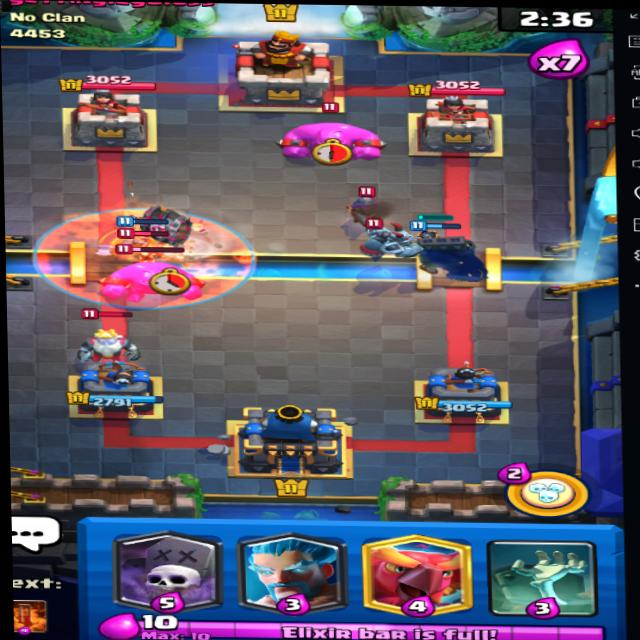Egolem: (279, 100, 397, 161), (76, 246, 205, 299)
Megaminion: (346, 215, 431, 263)
Musketeer: (342, 182, 393, 223)
Royalghost: (74, 308, 155, 364)
Valk: (111, 230, 183, 263)
